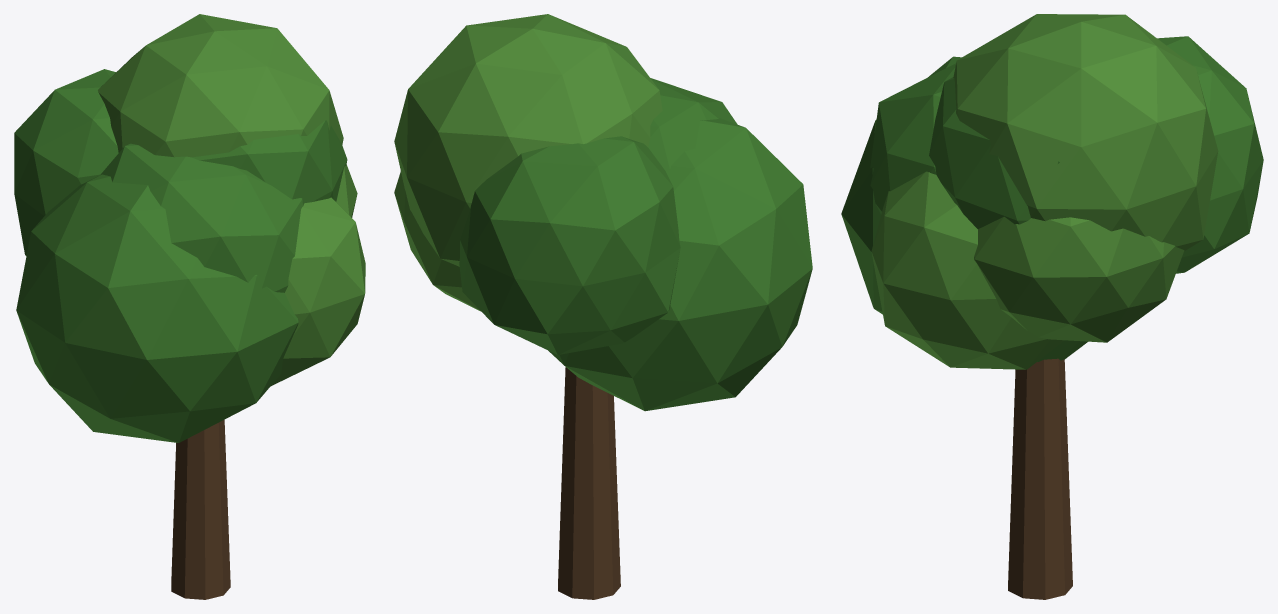
The model's file is baum_eiche.glb.
3 views of the same model, side by side, from view 1: azimuth 30°, elevation 25°; view 2: azimuth 150°, elevation 25°; view 3: azimuth 270°, elevation 25° (orthographic). The views are drawn at different scales.
Parts seen in each view (by area): view 1: krone.004, krone.003, krone, krone.006, krone.005, stamm, krone.002, krone.001; view 2: krone.006, krone.004, krone.003, stamm, krone, krone.001; view 3: krone.003, krone.005, krone.001, stamm, krone.006, krone.002, krone, krone.004.
Boxes of the visible parts, left/top/right/bottom form: krone.004: left=16, top=174, right=298, bottom=442; krone.003: left=98, top=14, right=343, bottom=157; krone: left=100, top=143, right=304, bottom=292; krone.006: left=14, top=69, right=118, bottom=255; krone.005: left=270, top=197, right=365, bottom=386; stamm: left=171, top=419, right=230, bottom=599; krone.002: left=192, top=120, right=347, bottom=203; krone.001: left=336, top=165, right=357, bottom=217; krone.006: left=459, top=136, right=680, bottom=354; krone.004: left=548, top=118, right=812, bottom=411; krone.003: left=394, top=14, right=662, bottom=266; stamm: left=558, top=367, right=620, bottom=599; krone: left=648, top=78, right=737, bottom=171; krone.001: left=394, top=171, right=480, bottom=311; krone.003: left=953, top=14, right=1218, bottom=250; krone.005: left=871, top=171, right=1064, bottom=369; krone.001: left=974, top=216, right=1184, bottom=342; stamm: left=1008, top=358, right=1072, bottom=599; krone.006: left=1157, top=36, right=1263, bottom=273; krone.002: left=929, top=77, right=1059, bottom=228; krone: left=870, top=63, right=955, bottom=214; krone.004: left=841, top=56, right=1087, bottom=361.
Bounding box in the file's own units: 4.37 × 6.72 × 4.42.
